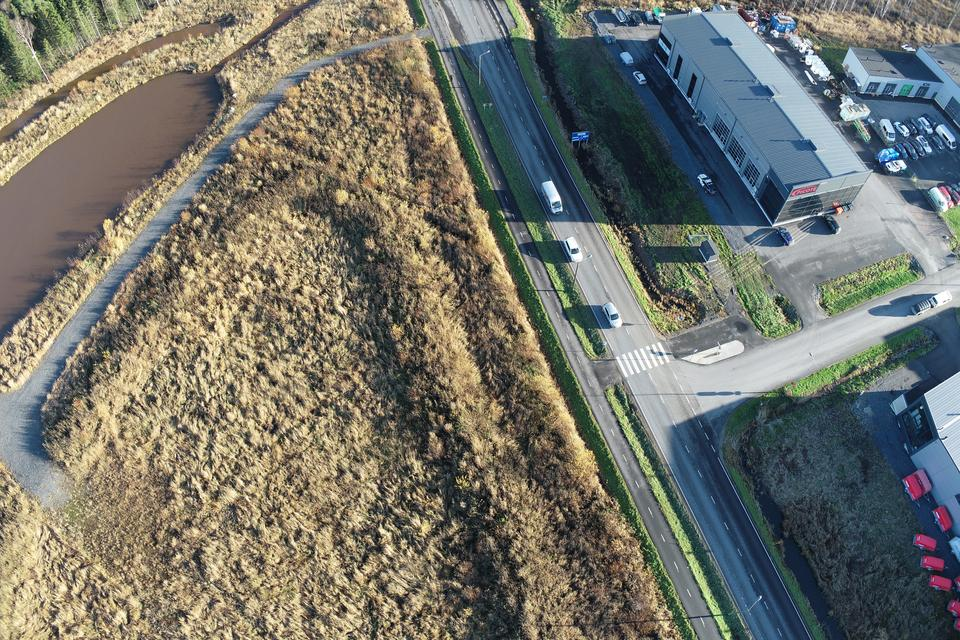intersection: (537, 309, 784, 457), (389, 12, 537, 78)
